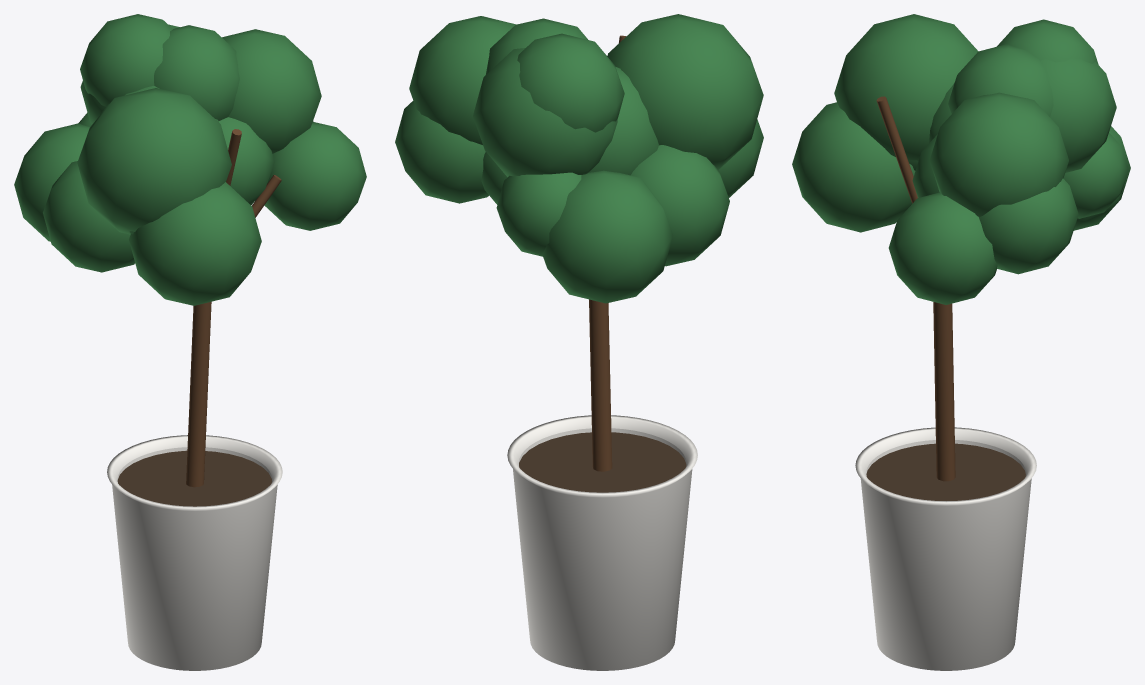
File: hos-021.glb
3 renders of one model, left to right at view 1: azimuth 30°, elevation 25°; view 2: azimuth 150°, elevation 25°; view 3: azimuth 270°, elevation 25°, orthographic. The views are drawn at different scales.
Parts seen in each view (by area): view 1: leaf, ceramic_white, soil, walnut; view 2: leaf, ceramic_white, soil, walnut; view 3: leaf, ceramic_white, soil, walnut.
Boxes of the visible parts, <box> form: leaf: <box>14,14,366,305</box>; ceramic_white: <box>107,435,282,670</box>; soil: <box>117,450,271,506</box>; walnut: <box>186,129,281,487</box>; leaf: <box>395,14,763,303</box>; ceramic_white: <box>507,415,697,670</box>; soil: <box>519,432,686,492</box>; walnut: <box>589,35,625,471</box>; leaf: <box>792,14,1130,304</box>; ceramic_white: <box>855,427,1036,670</box>; soil: <box>866,443,1025,500</box>; walnut: <box>876,96,955,481</box>.
Bounding box in the file's own units: 0.804 × 1.56 × 0.7844.
